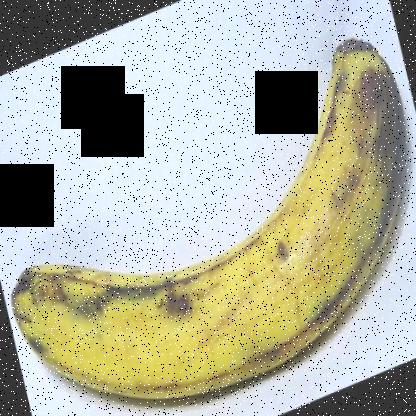ripe: (7, 24, 411, 415)
